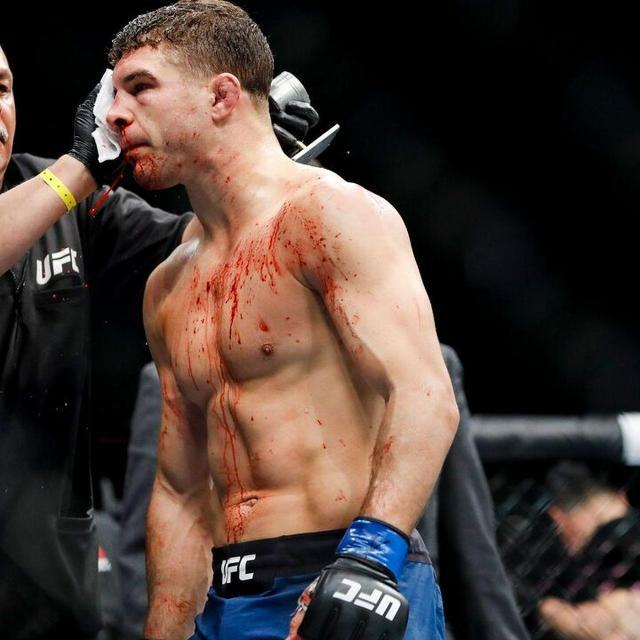blood: (112, 108, 411, 640), (88, 162, 126, 216)
